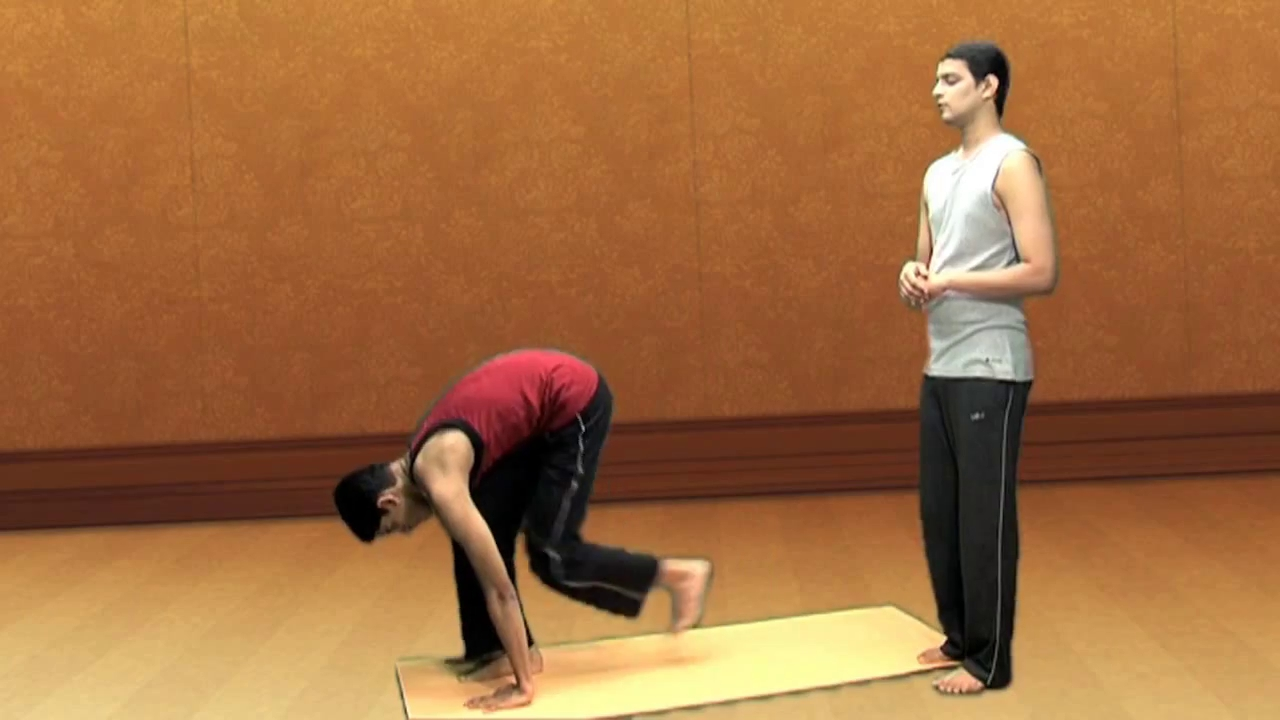person: (332, 347, 713, 713), (898, 43, 1058, 696)
